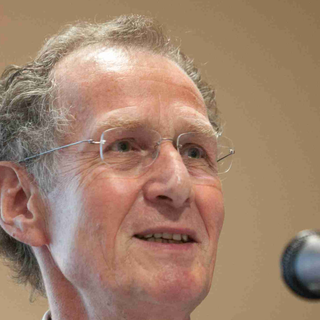eye: (102, 131, 150, 164), (178, 136, 216, 171)
